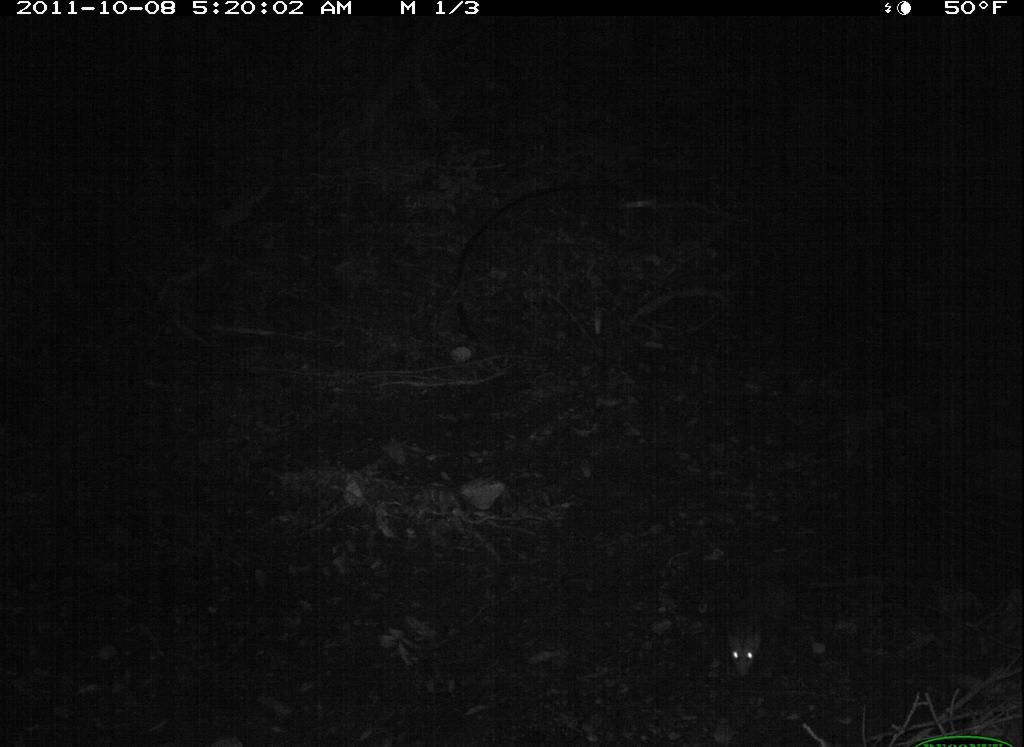opossum: (712, 550, 816, 703)
